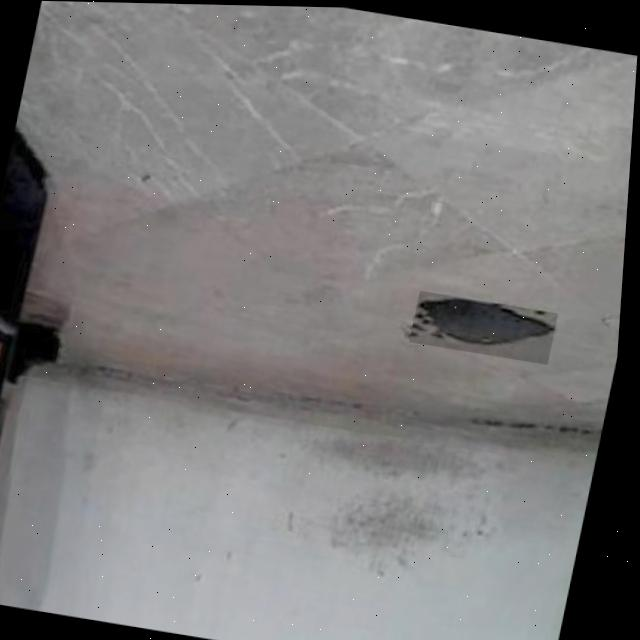spillage: (421, 295, 558, 354)
